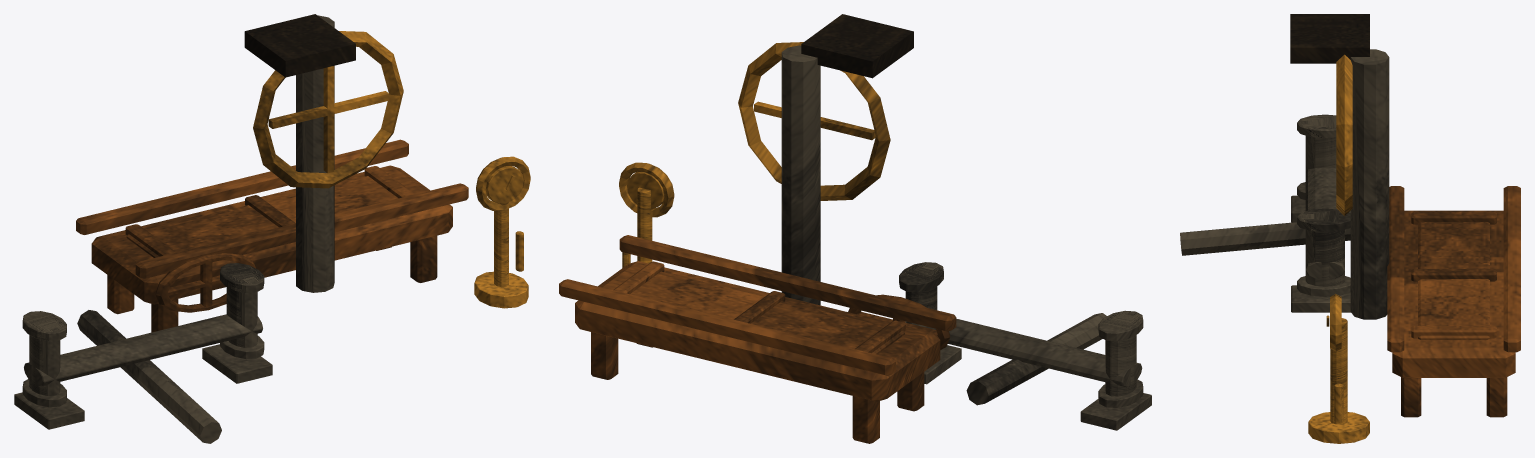
The model's file is water-band-pump-station.glb.
3 views of the same model, side by side, from view 1: azimuth 30°, elevation 25°; view 2: azimuth 150°, elevation 25°; view 3: azimuth 270°, elevation 25° (orthographic). The views are drawn at different scales.
Visible parts, largest first — view 1: water-band-pump-station; view 2: water-band-pump-station; view 3: water-band-pump-station.
Part boxes in pixels (x1=…): water-band-pump-station: x1=14, y1=14, x2=530, y2=443; water-band-pump-station: x1=559, y1=14, x2=1151, y2=443; water-band-pump-station: x1=1180, y1=14, x2=1520, y2=443.
Size of the model in its own units: 8.35 by 4.9 by 4.97.
1 material, 1 textured.
